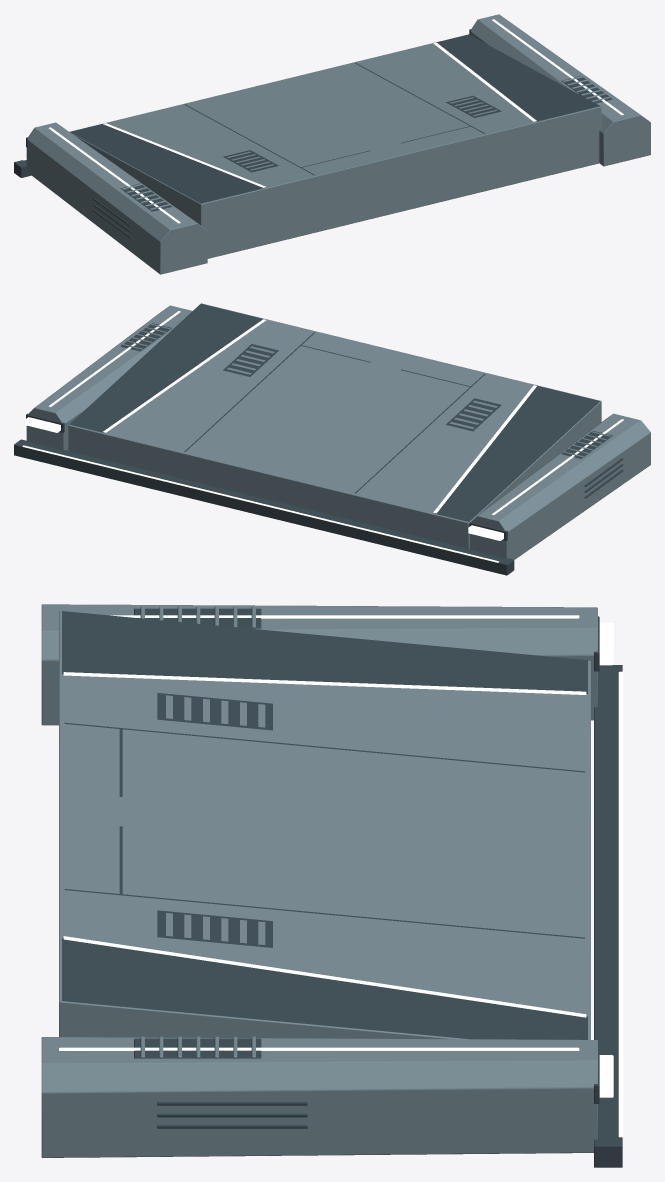
The model's file is hood.glb.
3 renders of one model, top to bottom at view 1: azimuth 30°, elevation 25°; view 2: azimuth 150°, elevation 25°; view 3: azimuth 270°, elevation 25°, orthographic. The views are drawn at different scales.
Parts seen in each view (by area): view 1: hood; view 2: hood; view 3: hood.
Boxes of the visible parts, x1,y1,x2,y2 form: hood: (14, 14, 650, 274); hood: (14, 303, 650, 575); hood: (41, 604, 623, 1167).
Bounding box in the file's own units: 19.7 × 2.32 × 10.06.
